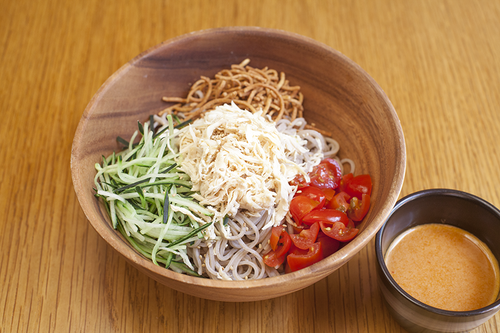Soba: (193, 204, 279, 287)
